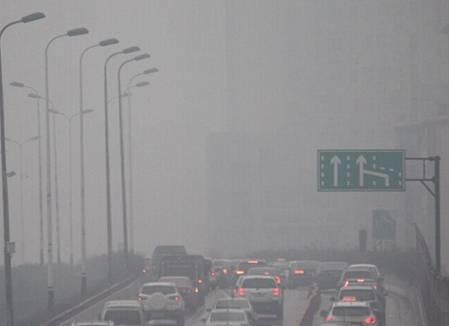bus: (160, 255, 209, 305), (151, 245, 189, 290), (186, 256, 216, 290)
car: (234, 276, 285, 319), (136, 283, 185, 326), (328, 287, 383, 324), (155, 275, 198, 314), (334, 269, 385, 300), (320, 302, 384, 326), (206, 298, 258, 326), (345, 263, 387, 297), (243, 267, 286, 295), (101, 300, 145, 326), (313, 262, 351, 292), (234, 259, 268, 288), (286, 260, 321, 288), (200, 310, 256, 326)
